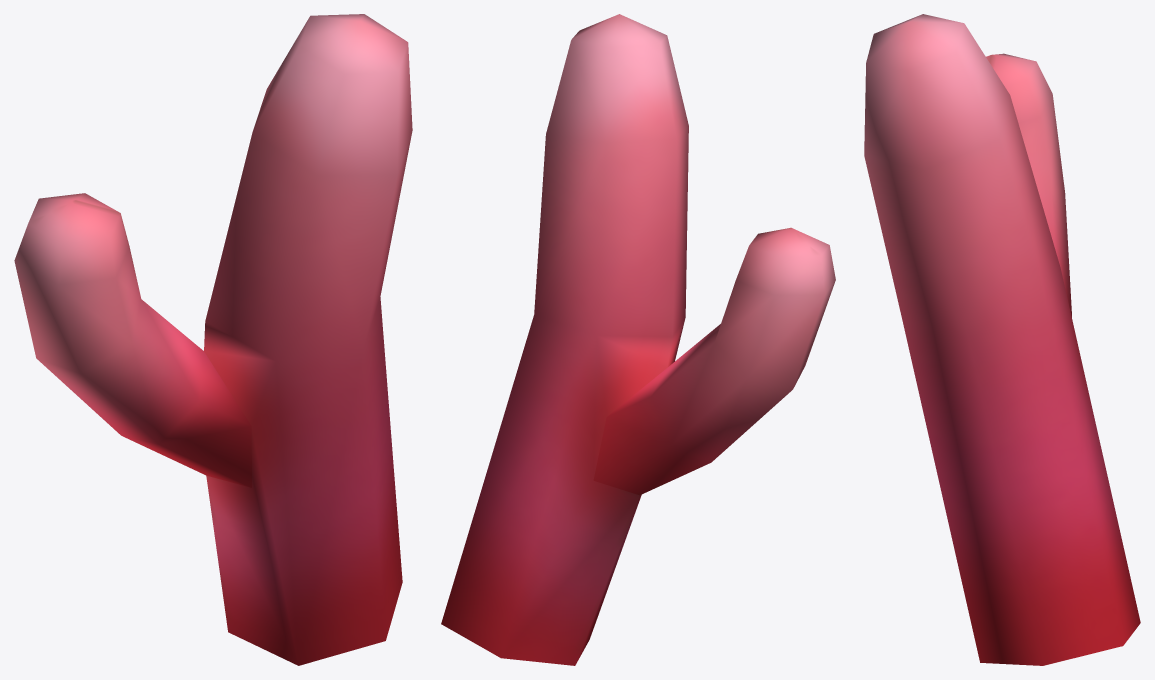
The model's file is Beach_coral_01.fbx.
3 views of the same model, side by side, from view 1: azimuth 30°, elevation 25°; view 2: azimuth 150°, elevation 25°; view 3: azimuth 270°, elevation 25° (orthographic). The views are drawn at different scales.
Visible parts, largest first — view 1: Beach_coral_01; view 2: Beach_coral_01; view 3: Beach_coral_01.
Boxes of the visible parts, left/top/right/bottom form: Beach_coral_01: left=14, top=14, right=412, bottom=665; Beach_coral_01: left=441, top=14, right=835, bottom=665; Beach_coral_01: left=864, top=14, right=1140, bottom=665.
Bounding box in the file's own units: 45.83 × 73.13 × 29.39.
